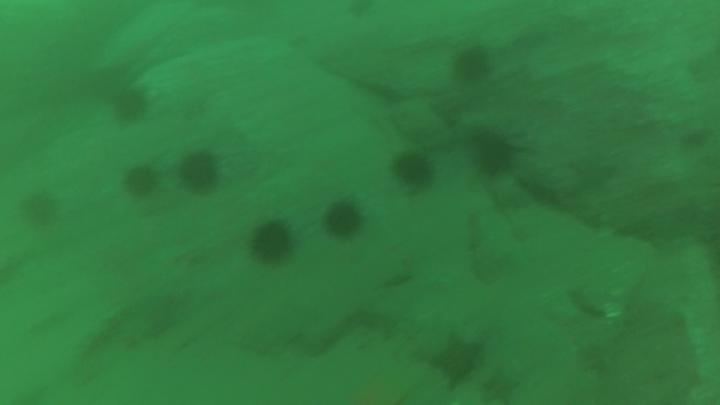echinus: (247, 218, 296, 268), (469, 129, 517, 179), (177, 149, 222, 197), (390, 148, 437, 193), (321, 197, 366, 243), (451, 44, 493, 86), (19, 188, 62, 229), (109, 85, 151, 126), (121, 162, 161, 200)
starfish: (427, 330, 486, 389), (478, 367, 523, 404)
